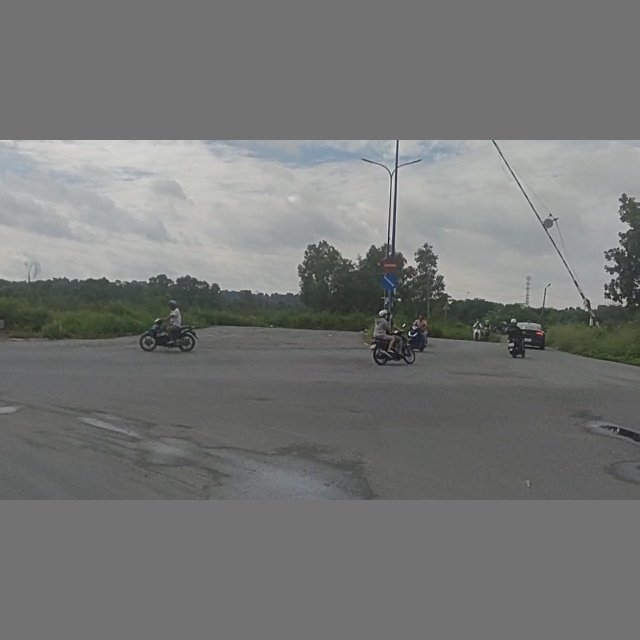P.102: (383, 257, 399, 272)
R.302a: (381, 271, 399, 288)
